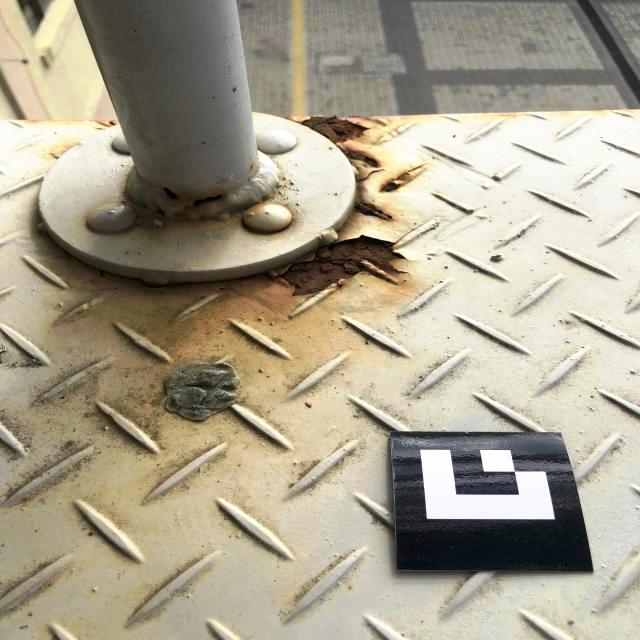Corrosion: (268, 236, 407, 295), (294, 115, 368, 143), (335, 142, 383, 180), (381, 164, 427, 192), (354, 202, 392, 220), (193, 194, 223, 207), (162, 187, 186, 200), (91, 119, 119, 127)
